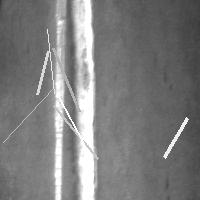scratches: (69, 1, 97, 199), (0, 82, 59, 147), (49, 101, 103, 164), (53, 1, 69, 200), (48, 43, 84, 116), (53, 90, 90, 150), (159, 113, 192, 162), (42, 24, 59, 98), (32, 46, 53, 99), (161, 170, 172, 193)
